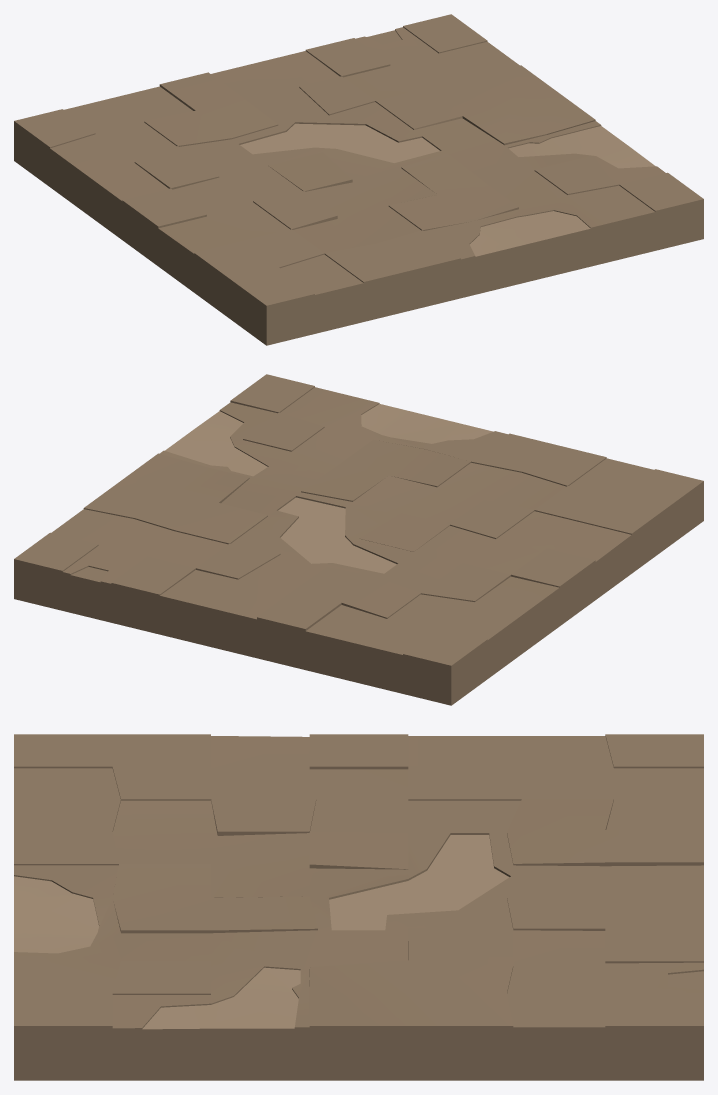
File: egypt_tilefloor.fbx
3 renders of one model, top to bottom at view 1: azimuth 30°, elevation 25°; view 2: azimuth 150°, elevation 25°; view 3: azimuth 270°, elevation 25°, orthographic. The views are drawn at different scales.
Visible parts, largest first — view 1: floor_tile; view 2: floor_tile; view 3: floor_tile.
Part boxes in pixels (x1,y1,x2,y2): floor_tile: (14, 14, 703, 345); floor_tile: (14, 374, 703, 705); floor_tile: (14, 734, 703, 1080).
Size of the model in its own units: 11.77 by 1.06 by 11.77.
